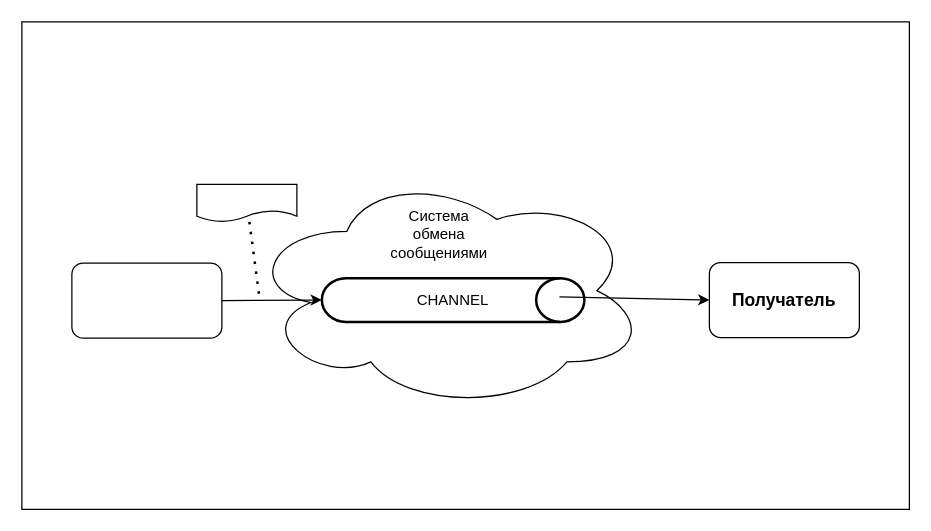
This 931x531 diagram has some shape labels left out. The centre of each missing label's shape, as x and y in pixels:
Отправитель: the point at 146,300
Сообщение: the point at 246,202
